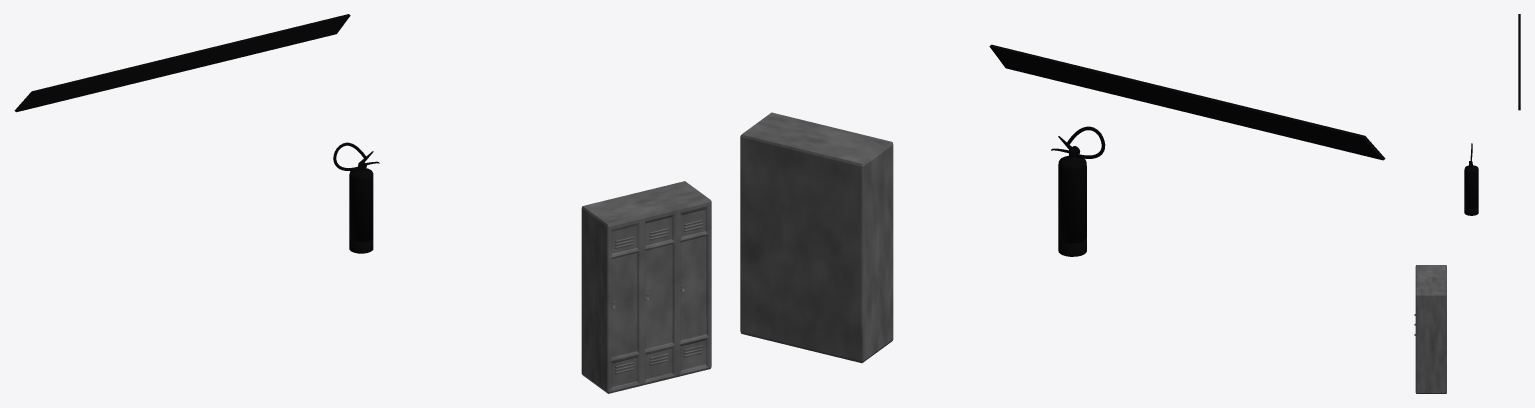
File: AssetsCenario.fbx
3 renders of one model, left to right at view 1: azimuth 30°, elevation 25°; view 2: azimuth 150°, elevation 25°; view 3: azimuth 270°, elevation 25°, orthographic. The views are drawn at different scales.
Visible parts, largest first — view 1: Armario, FitaSeguranca, Extintor; view 2: Armario, FitaSeguranca, Extintor; view 3: Armario, Extintor, FitaSeguranca.
Part boxes in pixels (x1,y1,x2,y2): Armario: (581,181,711,393); FitaSeguranca: (14,14,350,112); Extintor: (333,142,379,253); Armario: (740,112,893,363); FitaSeguranca: (989,44,1385,160); Extintor: (1051,126,1105,256); Armario: (1414,265,1446,393); Extintor: (1464,143,1478,215); FitaSeguranca: (1518,14,1520,110).
Size of the model in its own units: 675 by 378 by 174.
